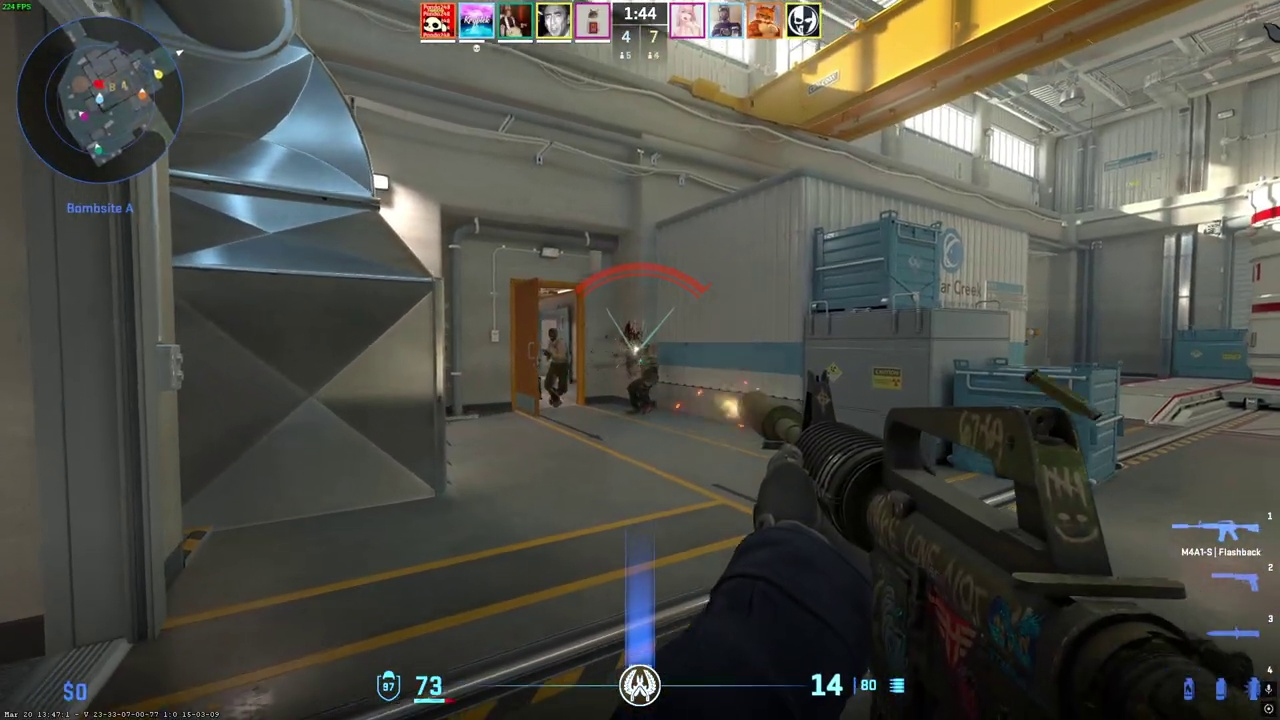Terrorist: (621, 337, 659, 415), (539, 327, 571, 408)
